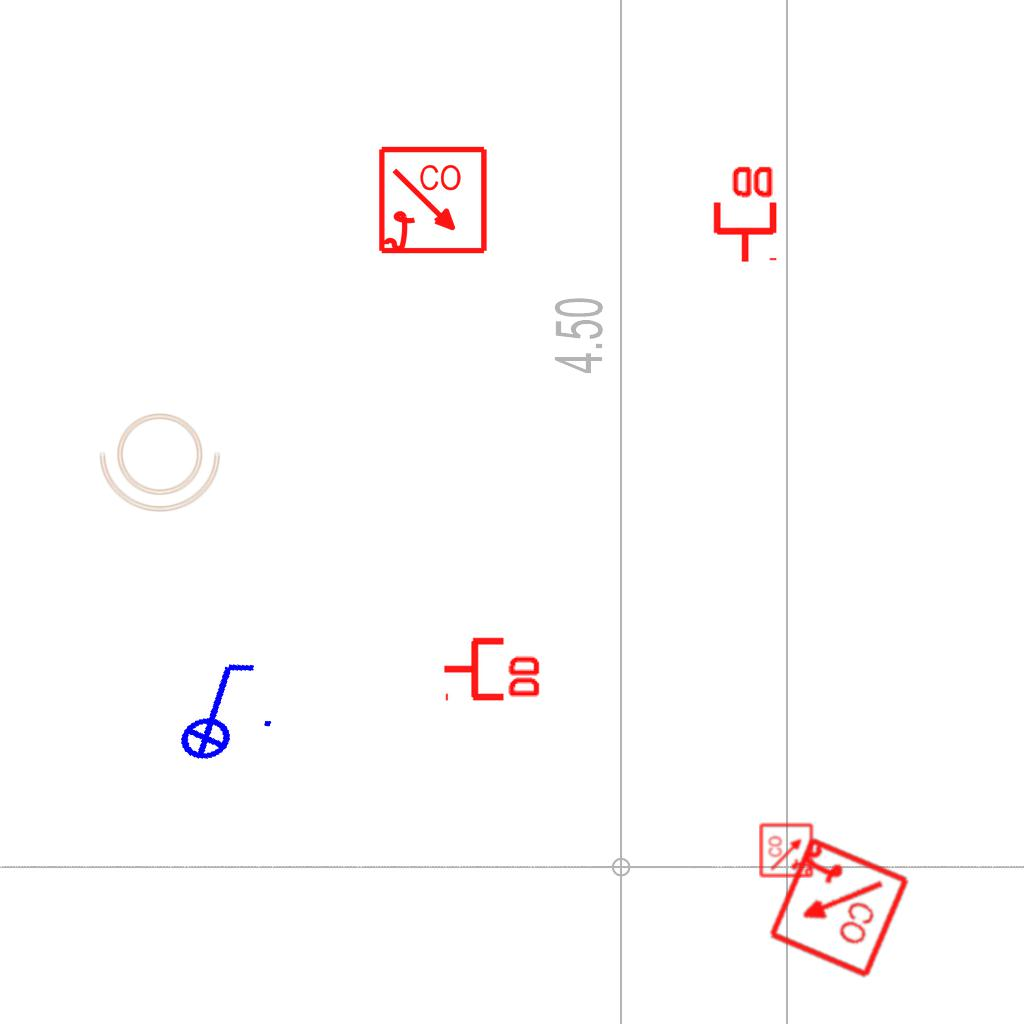Ausschalter_beleuchtet: (150, 648, 282, 770)
Datenanschluss_zweifach: (709, 162, 778, 265), (441, 633, 544, 702)
ROA_Rauchmelder_optisch_mit_Signalgeber_(Sockelsirene): (763, 833, 912, 982), (377, 145, 490, 258), (759, 822, 815, 878)
Scheinwerfer_fuer_Alarmbeleuchtung: (97, 403, 229, 515)
